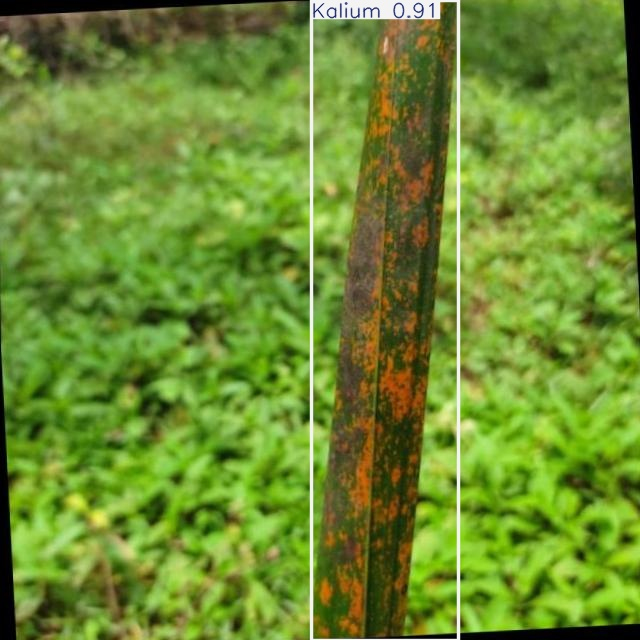Kalium: (311, 1, 458, 640)
